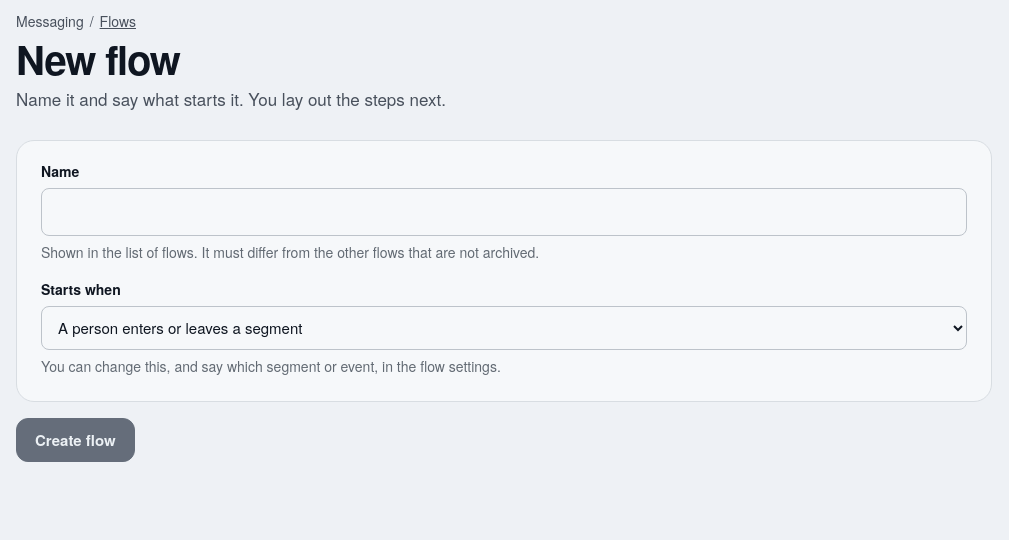
new flow › shows why the API refused and stays on the page
Type "Welcome series" into the field labelled "Name" at (504, 212), box [41, 188, 967, 236]
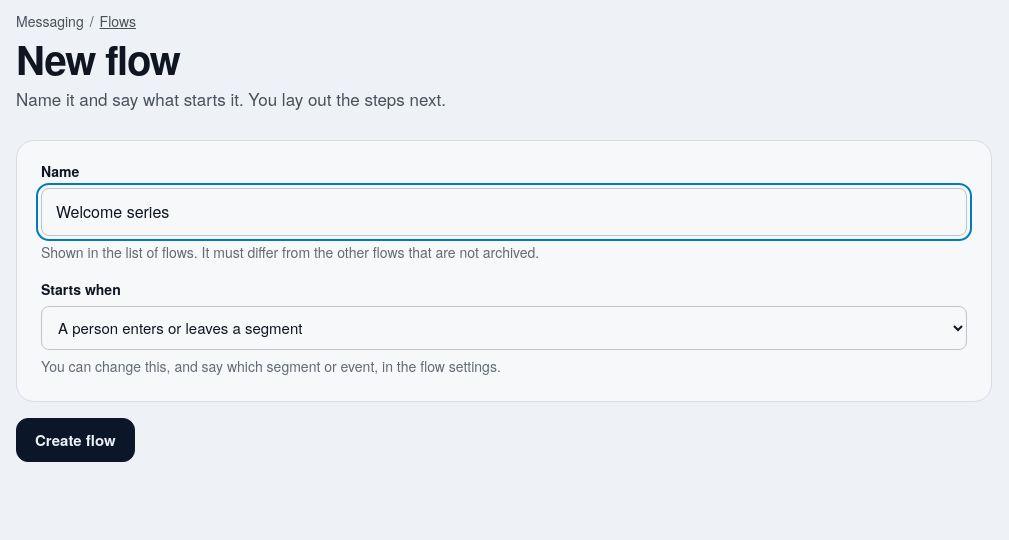
Click the button "Create flow" at (75, 440), box [16, 418, 135, 462]
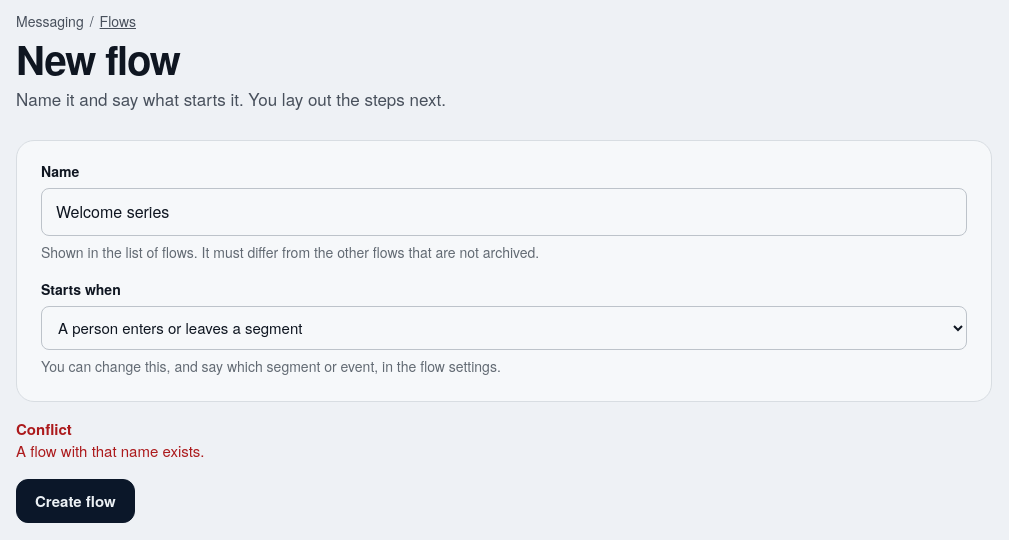
Now the text "A flow with that name exists." is shown, box [16, 440, 204, 461]
